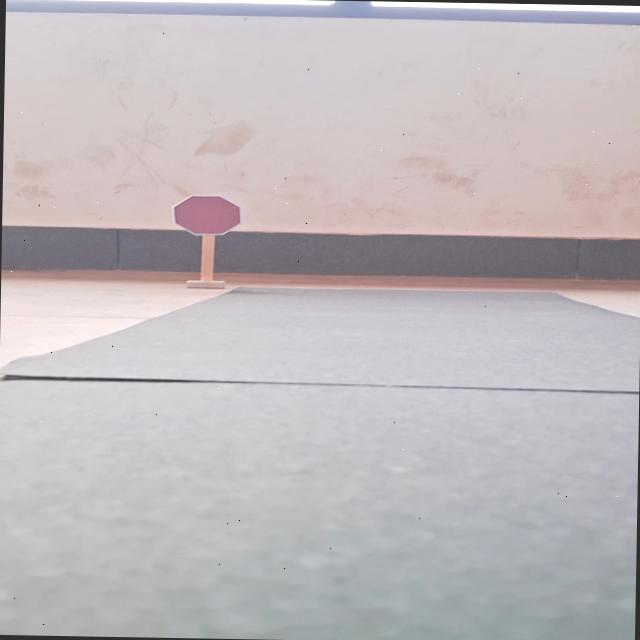Stop: (172, 194, 243, 237)
